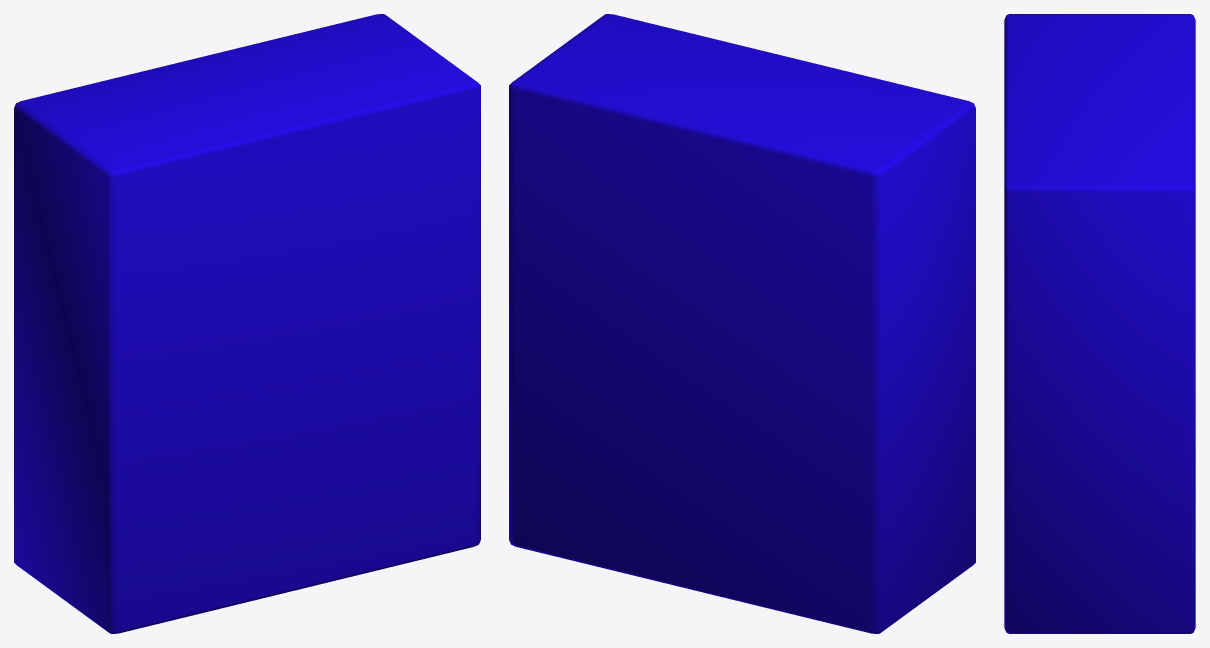
File: TagliatelleCarta250g.fbx
3 views of the same model, side by side, from view 1: azimuth 30°, elevation 25°; view 2: azimuth 150°, elevation 25°; view 3: azimuth 270°, elevation 25° (orthographic). The views are drawn at different scales.
Visible parts, largest first — view 1: TagliatelleCarta.001; view 2: TagliatelleCarta.001; view 3: TagliatelleCarta.001.
Boxes of the visible parts, box(x1,y1,x2,y2) form: TagliatelleCarta.001: box(14, 14, 480, 633); TagliatelleCarta.001: box(509, 14, 975, 633); TagliatelleCarta.001: box(1004, 14, 1195, 633).
Bounding box in the file's own units: 284 × 338 × 130.
